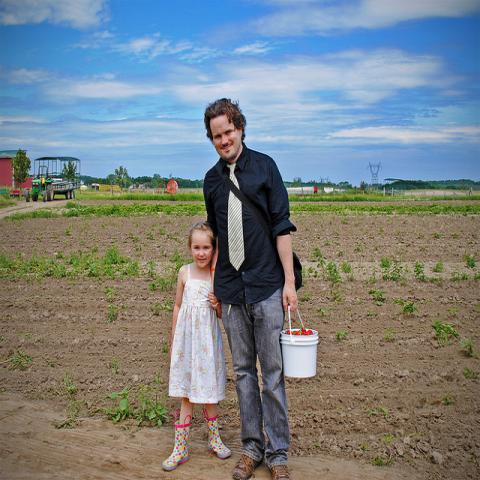truck: (26, 156, 80, 202)
